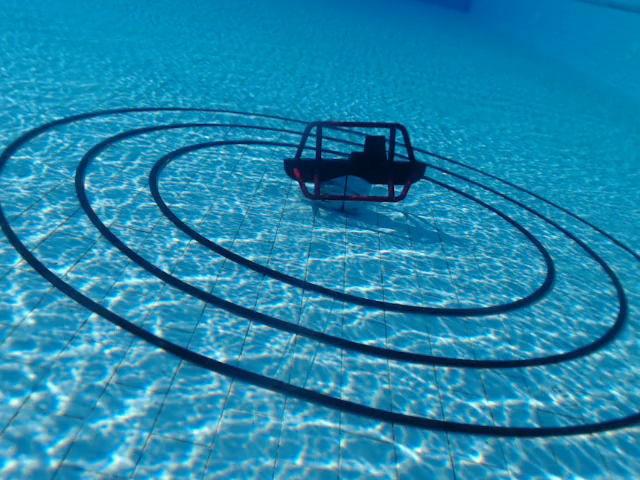submarine: (284, 118, 428, 208)
